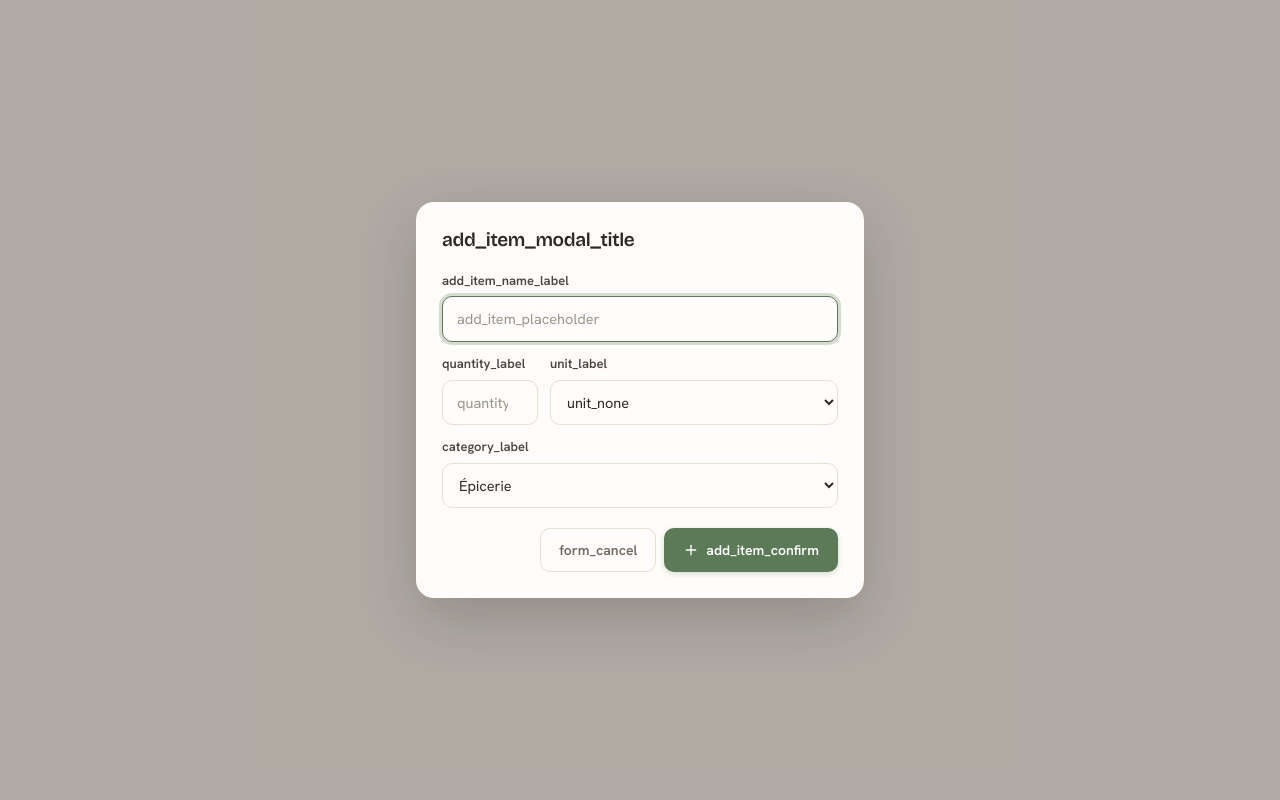
Test: AddItemModal › shows an error inside the modal and stays open when adding fails
The image size is (1280, 800).
Type "Riz" into the field labelled "add_item_name_label".
click(640, 319); type("Riz")  # box [442,296,838,342]
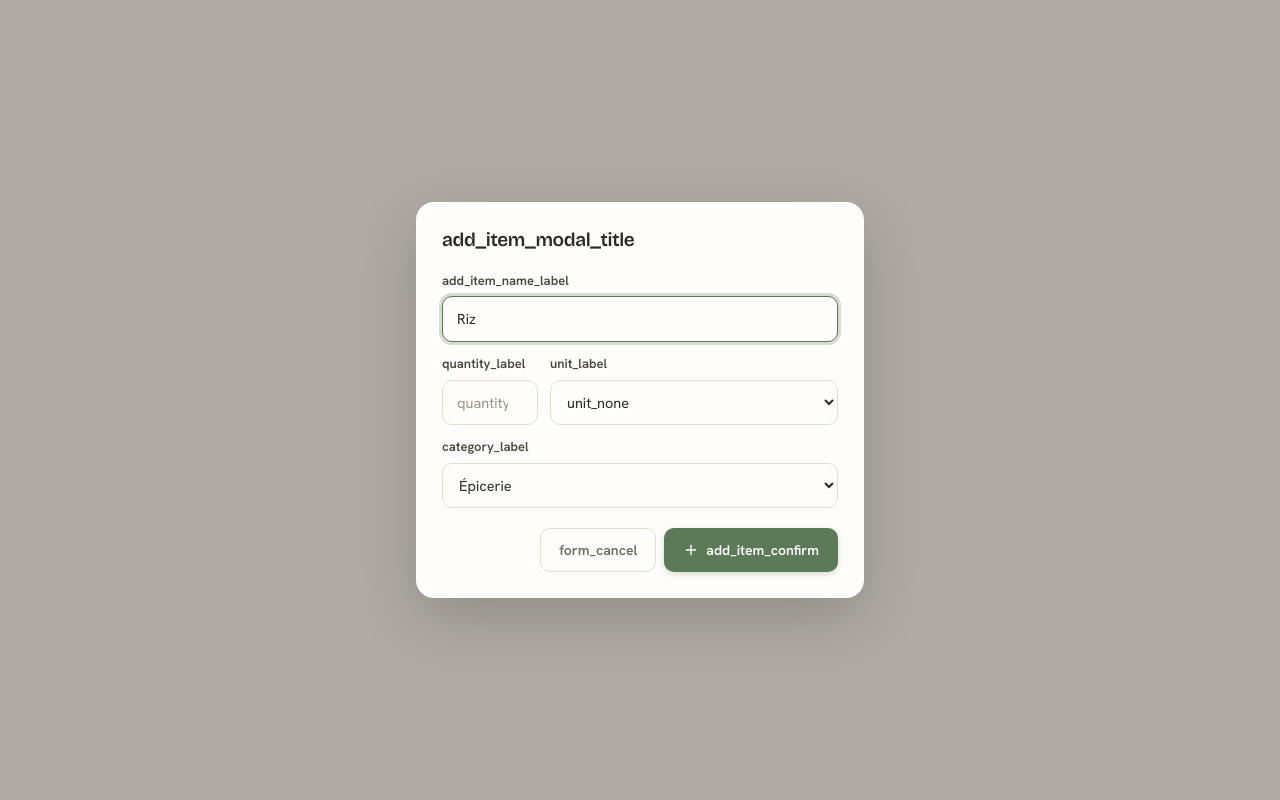
Click the button "add_item_confirm".
click(751, 550)  # box [664,528,838,572]
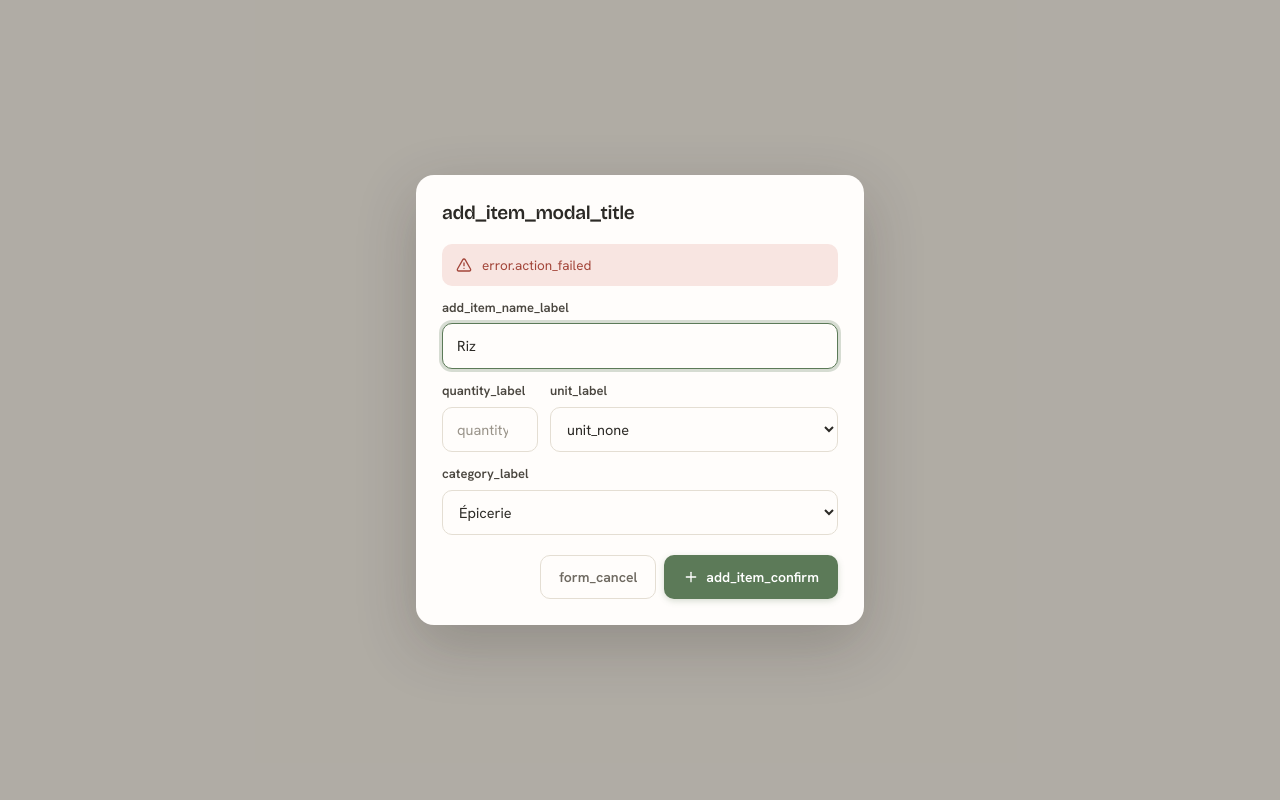
Result: the text "error.action_failed" is shown at [482,256,591,274]
